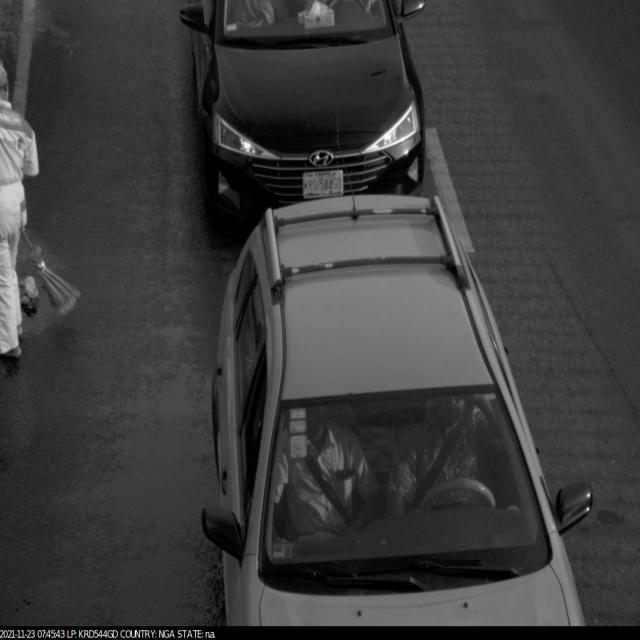windshield: (245, 372, 568, 607)
